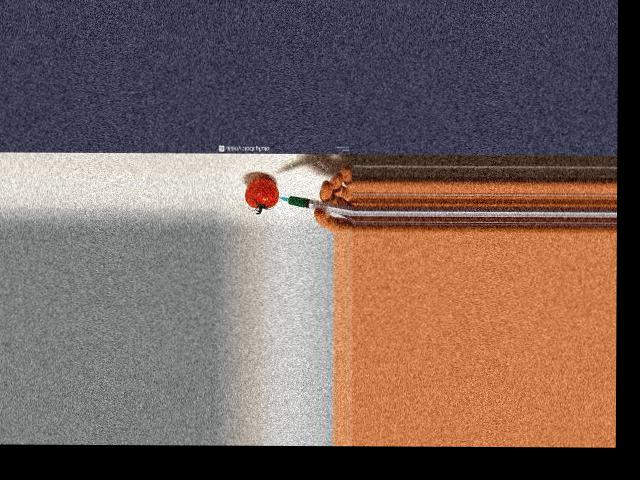tomato: (246, 177, 279, 207)
